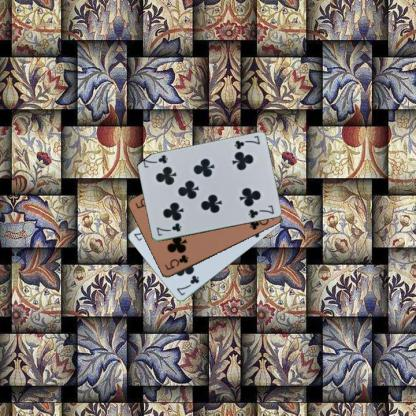5c: (162, 252, 190, 271)
7c: (174, 273, 200, 297), (232, 133, 260, 151), (154, 221, 182, 238)
